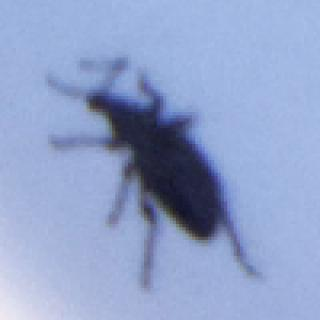bvw: (45, 52, 264, 294)
